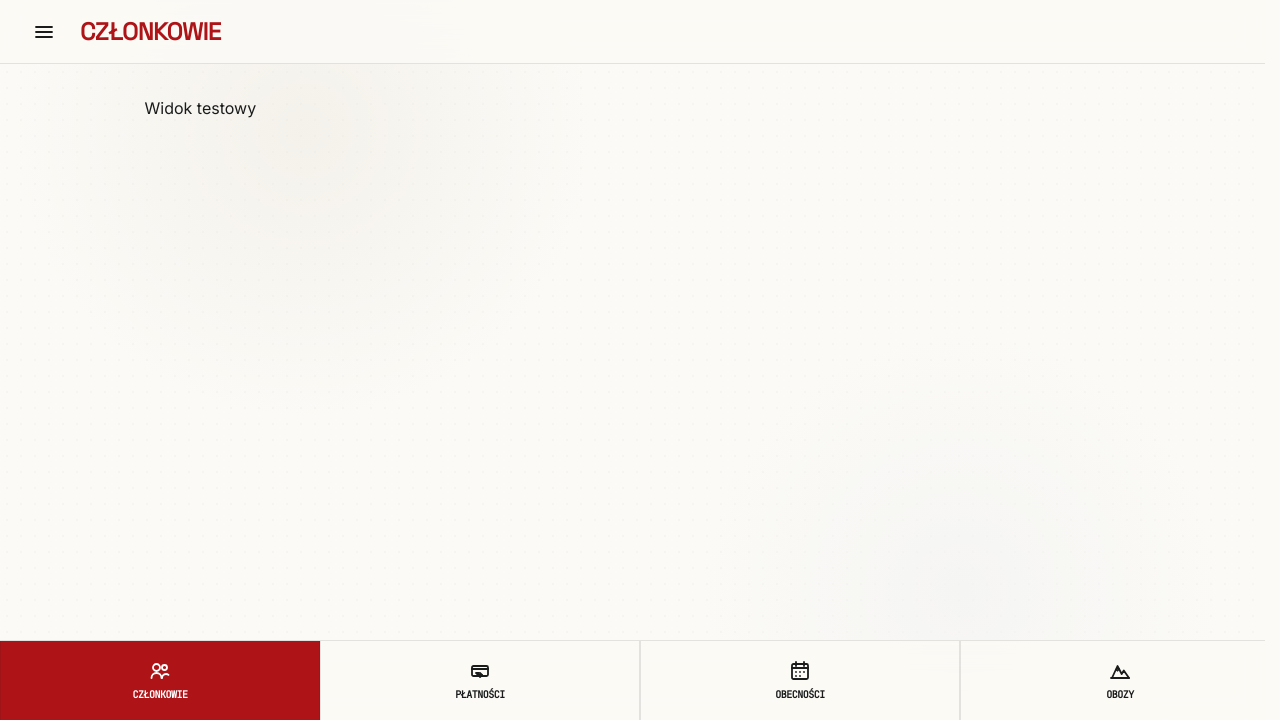
Scenario: AppShell › switches locale from the hamburger menu and persists the choice locally
Click the button with test id "shell-menu-button". click: (44, 32)
box: x1=24 y1=12 x2=64 y2=52
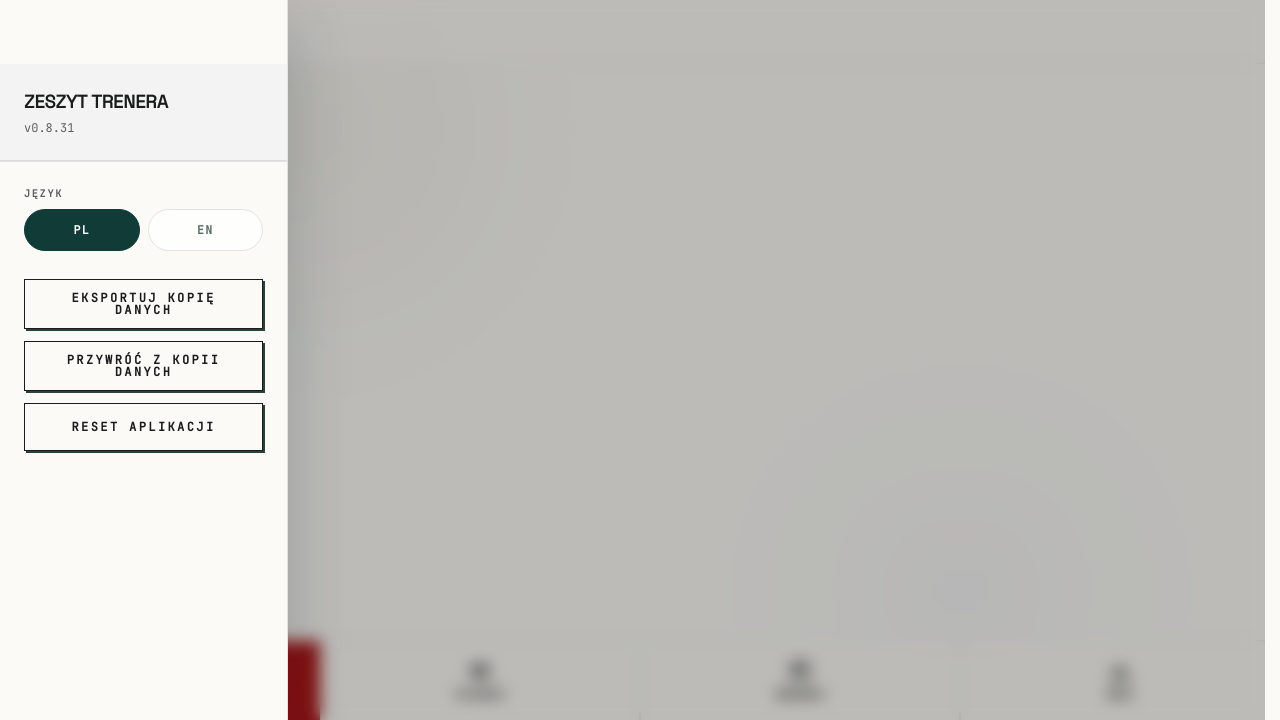
Click the button with test id "locale-en". click: (205, 230)
box: x1=148 y1=209 x2=263 y2=251
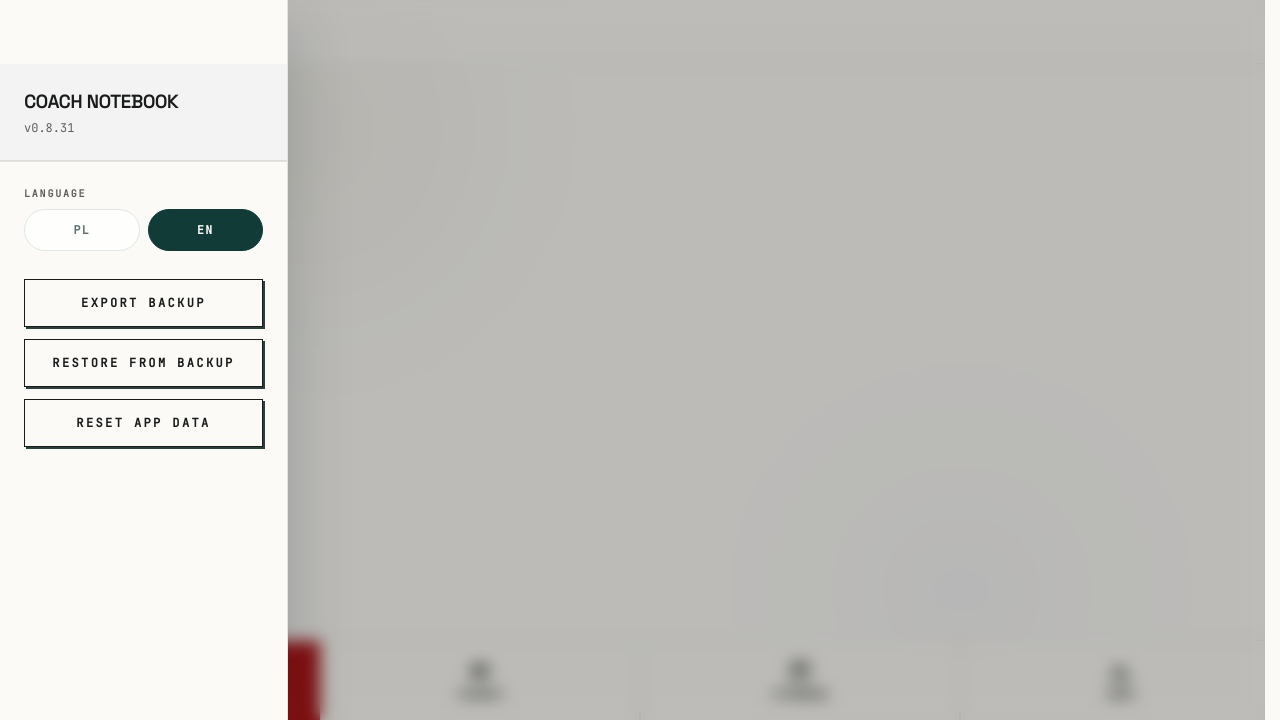
Expected: the text "Language" is shown, x1=24 y1=187 x2=86 y2=200
